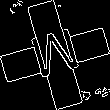M_S: (26, 24, 84, 86)
